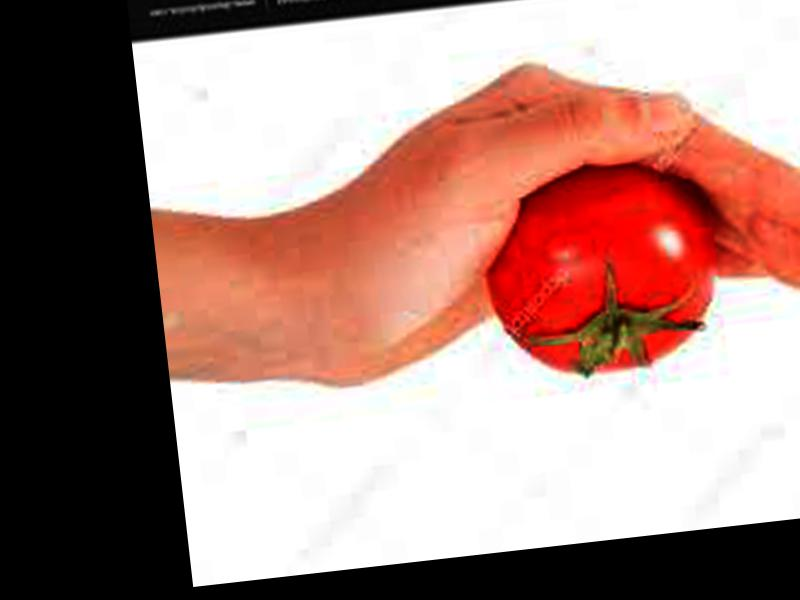Tomato: (474, 158, 720, 382)
